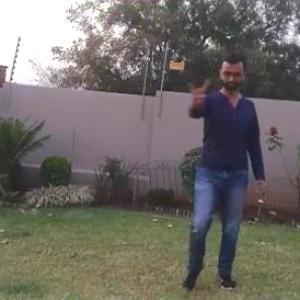takeoff-hand: (178, 72, 212, 110)
